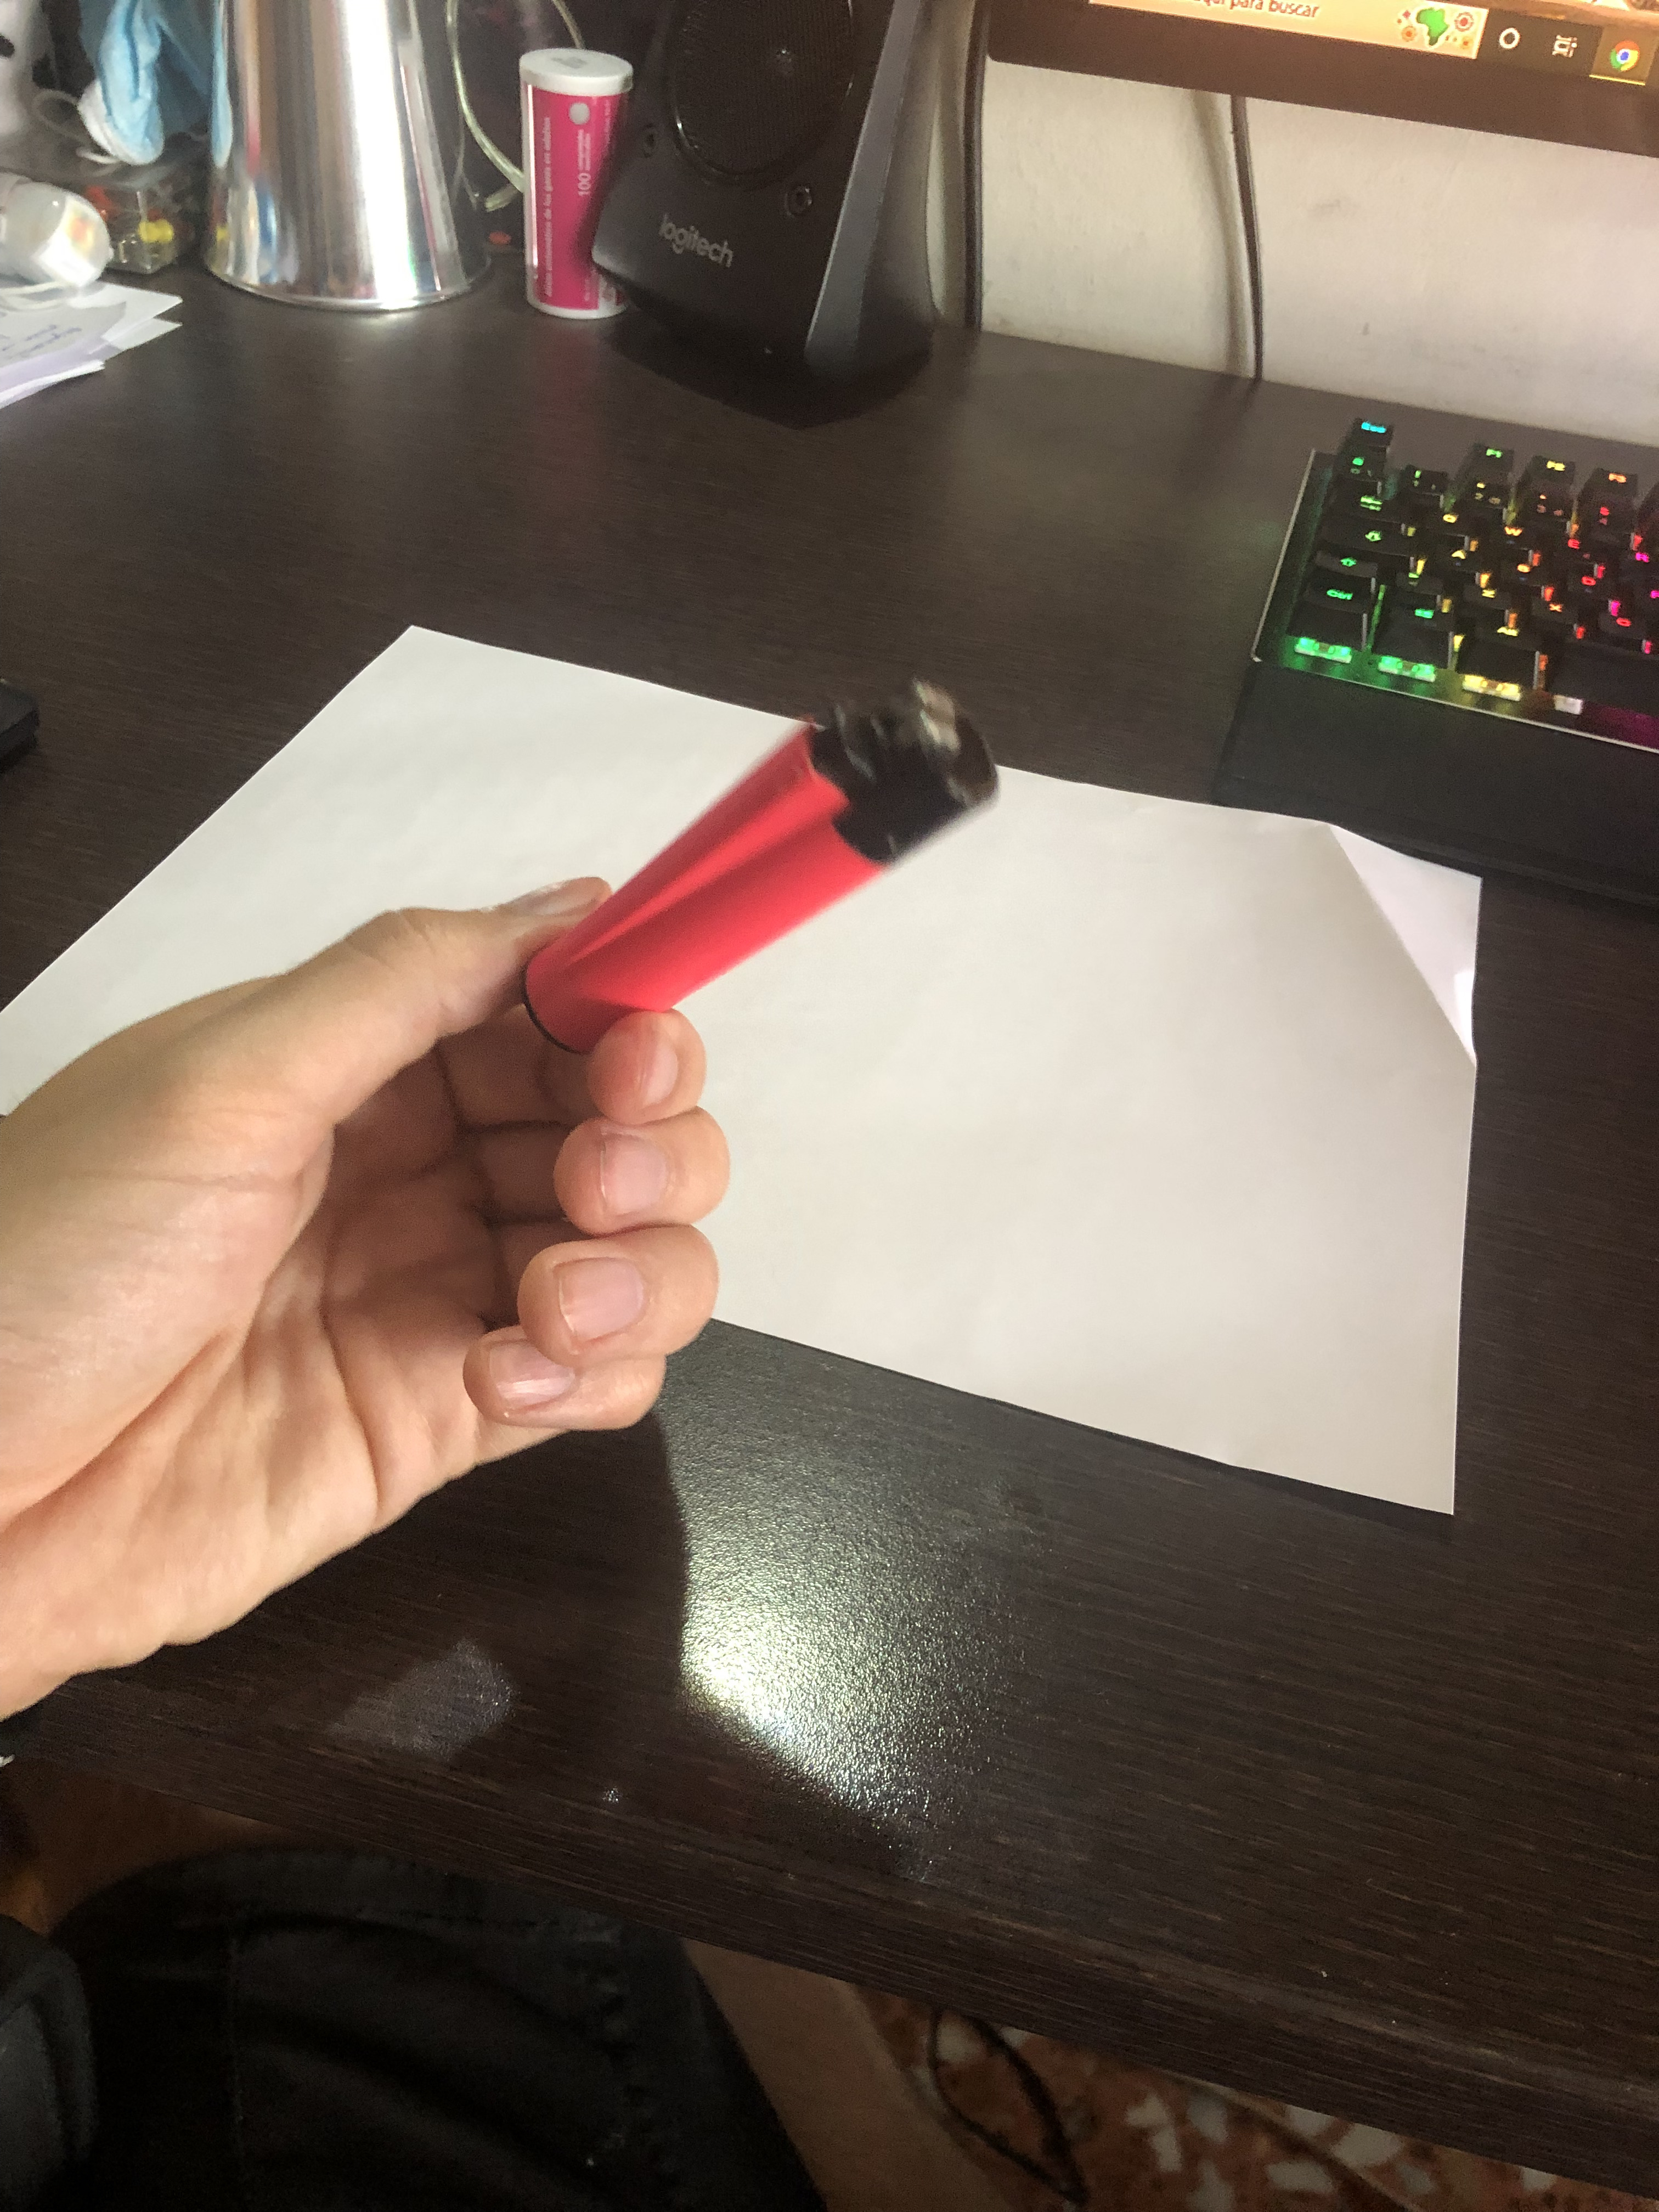Mechero: (497, 662, 1007, 1082)
